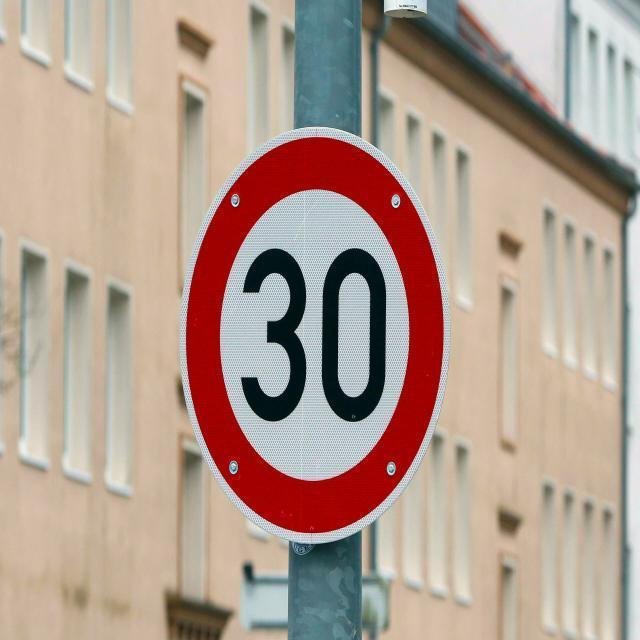Speed Limit -30-: (180, 128, 452, 542)
